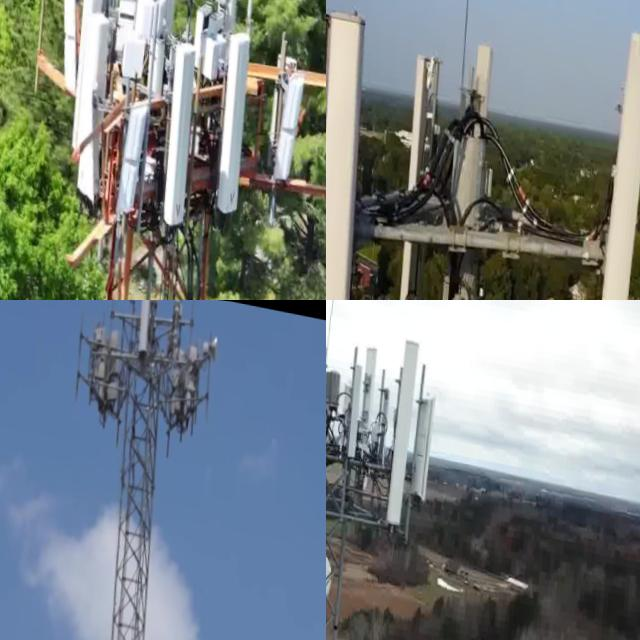GSM Antenna: (391, 34, 441, 300), (598, 13, 640, 300), (326, 0, 363, 300), (156, 26, 205, 227), (68, 1, 118, 195), (211, 16, 256, 214), (378, 326, 424, 519), (271, 58, 309, 185), (114, 88, 148, 220), (66, 0, 103, 99), (354, 330, 382, 456), (467, 30, 495, 117), (343, 354, 366, 447), (133, 300, 157, 375)
Microwave Antenna: (201, 314, 223, 365), (326, 535, 335, 604)
